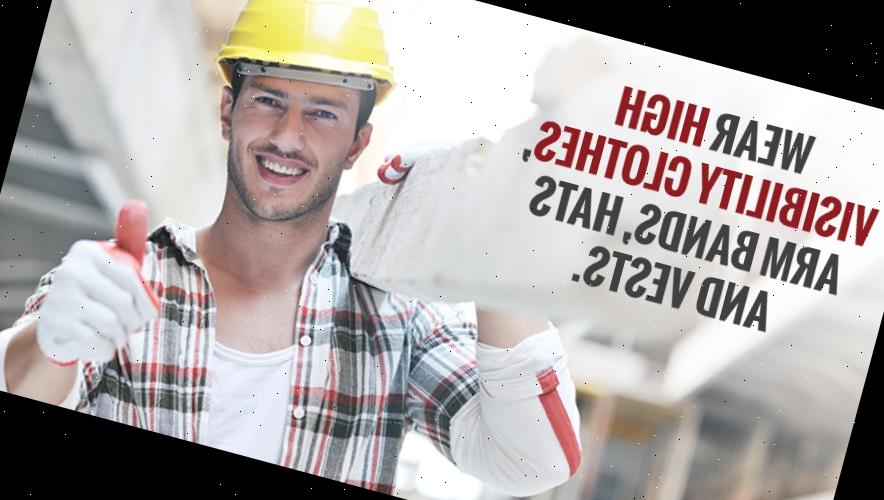helmet: (198, 0, 418, 110)
no_wear: (61, 212, 453, 498)
